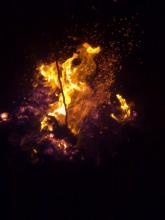fire: (35, 41, 119, 140)
